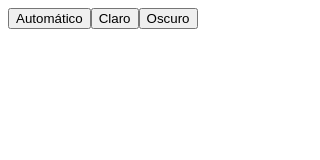
it: selector de tema › claro y oscuro se aplican a <html>, se guardan y cambian el color de la barra
The width and height of the screenshot is (320, 160).
Later steps or results of the test are not shown.
Click the button "Claro".
click(115, 18)  # box [91,8,139,29]
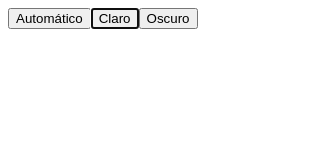
expect the button "Claro" is pressed: met, box [91,8,139,29]
